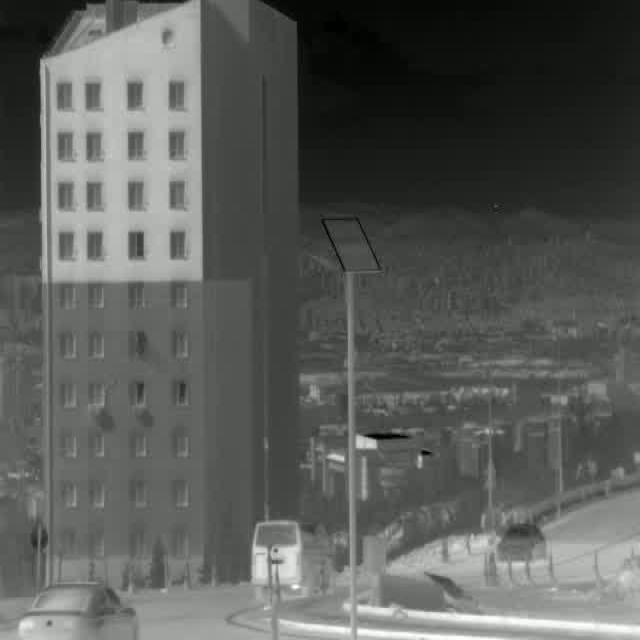Car: (15, 574, 139, 640), (250, 519, 337, 598), (494, 523, 550, 561)
